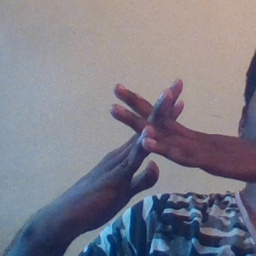W: (99, 67, 201, 208)
